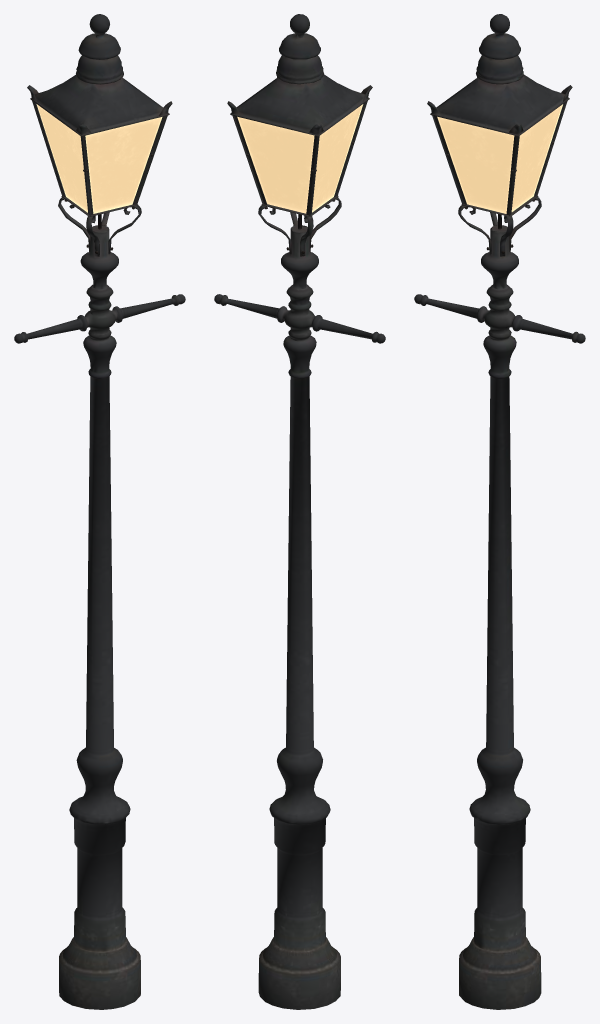
The model's file is street_lamp.glb.
3 renders of one model, left to right at view 1: azimuth 30°, elevation 25°; view 2: azimuth 150°, elevation 25°; view 3: azimuth 330°, elevation 25°, orthographic.
Parts seen in each view (by area): view 1: street_lamp; view 2: street_lamp; view 3: street_lamp.
Part boxes in pixels (box(x1,y1,x2,y2)): street_lamp: box(14, 14, 185, 1009); street_lamp: box(214, 14, 385, 1009); street_lamp: box(414, 14, 585, 1009).
Bounding box in the file's own units: 0.6189 × 3.4 × 0.3384.
3 materials, 3 textured.
